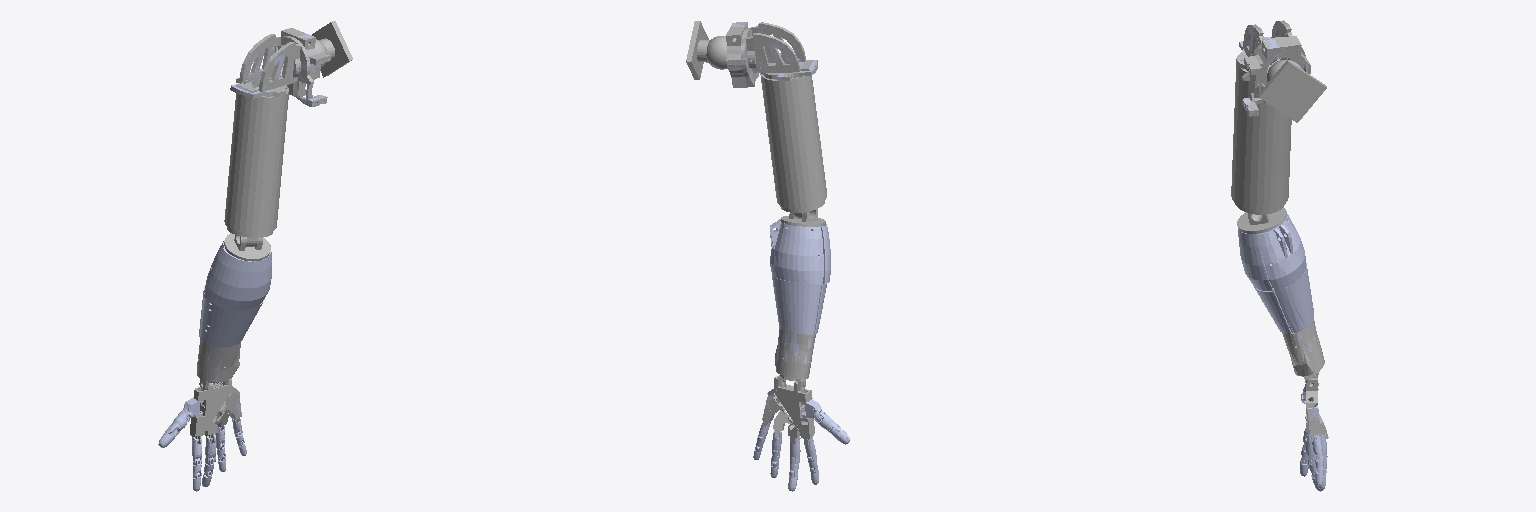
--- What the picture shows (computed from the rendered views, not written in the file) ---
The picture shows the robot from 3 angles, left to right: view 1: azimuth 30°, elevation 25°; view 2: azimuth 150°, elevation 25°; view 3: azimuth 270°, elevation 25°; orthographic projection.
Model Final with 29 links and 28 joints (10 revolute, 18 fixed), rooted at Hand, posed all joints at 0.
Links seen in each view (by area): view 1: Hand, wrist_forearmB, bicep_sholder; view 2: Hand, wrist_forearmB, bicep_sholder; view 3: Hand, wrist_forearmB.
Boxes of the visible links, bbox=[...] form: Hand: bbox=[190, 21, 352, 442]; wrist_forearmB: bbox=[199, 240, 271, 381]; bicep_sholder: bbox=[231, 34, 328, 105]; Hand: bbox=[686, 21, 826, 444]; wrist_forearmB: bbox=[770, 219, 830, 363]; bicep_sholder: bbox=[727, 22, 817, 86]; Hand: bbox=[1231, 20, 1328, 439]; wrist_forearmB: bbox=[1238, 214, 1316, 370].
Size in the robot's own frame: 0.3405 by 0.1526 by 0.8477 metres.
25 mesh visuals loaded from 29 distinct referenced files (25 binary STL); not drawn: 4 (reference not matched to a file when rendering).

URDF robot description (Final):
<robot
  name="Final">
  <link
    name="Hand">
    <inertial>
      <origin
        xyz="0.129288637592958 0.466172810294003 0.134407728849478"
        rpy="0 0 0" />
      <mass
        value="1.43769689729479" />
      <inertia
        ixx="0.0754637348742417"
        ixy="0.0160051371354131"
        ixz="8.10570732276293E-05"
        iyy="0.00844184701366337"
        iyz="0.00475609505577655"
        izz="0.0802895400374223" />
    </inertial>
    <visual>
      <origin
        xyz="0 0 0"
        rpy="0 0 0" />
      <geometry>
        <mesh
          filename="package://Final/meshes/Hand.stl" />
      </geometry>
      <material
        name="">
        <color
          rgba="0.752941176470588 0.752941176470588 0.752941176470588 1" />
      </material>
    </visual>
    <collision>
      <origin
        xyz="0 0 0"
        rpy="0 0 0" />
      <geometry>
        <mesh
          filename="package://Final/meshes/Hand.stl" />
      </geometry>
    </collision>
  </link>
  <link
    name="finger1">
    <inertial>
      <origin
        xyz="0.0110548124588699 -0.000759093738962921 -0.00222741724519672"
        rpy="0 0 0" />
      <mass
        value="0.00485447178040187" />
      <inertia
        ixx="7.36775350797906E-07"
        ixy="-9.89986093717195E-11"
        ixz="-1.43870662962904E-09"
        iyy="7.85496873726242E-07"
        iyz="1.24397307531872E-08"
        izz="2.26727077935767E-07" />
    </inertial>
    <visual>
      <origin
        xyz="0 0 0"
        rpy="0 0 0" />
      <geometry>
        <mesh
          filename="package://Final/meshes/finger1.stl" />
      </geometry>
      <material
        name="">
        <color
          rgba="0.792156862745098 0.819607843137255 0.933333333333333 1" />
      </material>
    </visual>
    <collision>
      <origin
        xyz="0 0 0"
        rpy="0 0 0" />
      <geometry>
        <mesh
          filename="package://Final/meshes/finger1.stl" />
      </geometry>
    </collision>
  </link>
  <joint
    name="jointA_F1"
    type="fixed">
    <origin
      xyz="0.0471308262462804 -0.0859589965746256 -0.0109125459288793"
      rpy="0.182773605382286 -0.0951335730972726 3.14159265358979" />
    <parent
      link="Hand" />
    <child
      link="finger1" />
    <axis
      xyz="0 1 0" />
  </joint>
  <link
    name="Finger1_B">
    <inertial>
      <origin
        xyz="-0.0121027078859167 0.0272470178621252 0.000928955040772866"
        rpy="0 0 0" />
      <mass
        value="0.00291154998187445" />
      <inertia
        ixx="2.44527318703978E-07"
        ixy="1.56721281805273E-11"
        ixz="-8.84992107980566E-10"
        iyy="2.47698994054191E-07"
        iyz="-1.37934990242015E-08"
        izz="9.10717312480527E-08" />
    </inertial>
    <visual>
      <origin
        xyz="0 0 0"
        rpy="0 0 0" />
      <geometry>
        <mesh
          filename="package://Final/meshes/Finger1_B.stl" />
      </geometry>
      <material
        name="">
        <color
          rgba="0.792156862745098 0.819607843137255 0.933333333333333 1" />
      </material>
    </visual>
    <collision>
      <origin
        xyz="0 0 0"
        rpy="0 0 0" />
      <geometry>
        <mesh
          filename="package://Final/meshes/Finger1_B.stl" />
      </geometry>
    </collision>
  </link>
  <joint
    name="Joint_B_F1"
    type="fixed">
    <origin
      xyz="0.0239670317406078 -0.0292121636952554 -0.0326970245054934"
      rpy="-0.0010563321639043 0.0180579245836944 0.0282279152974621" />
    <parent
      link="finger1" />
    <child
      link="Finger1_B" />
    <axis
      xyz="0 1 0" />
  </joint>
  <link
    name="Finger1_C">
    <inertial>
      <origin
        xyz="0.011637652069532 -0.02600688585187 -0.000760205265330147"
        rpy="0 0 0" />
      <mass
        value="0.00275476937351065" />
      <inertia
        ixx="2.44487477502541E-07"
        ixy="-3.19925276440353E-11"
        ixz="2.05349249782881E-10"
        iyy="2.40288841362679E-07"
        iyz="-1.37763471505517E-08"
        izz="7.25166805272361E-08" />
    </inertial>
    <visual>
      <origin
        xyz="0 0 0"
        rpy="0 0 0" />
      <geometry>
        <mesh
          filename="package://Final/meshes/Finger1_C.stl" />
      </geometry>
      <material
        name="">
        <color
          rgba="0.792156862745098 0.819607843137255 0.933333333333333 1" />
      </material>
    </visual>
    <collision>
      <origin
        xyz="0 0 0"
        rpy="0 0 0" />
      <geometry>
        <mesh
          filename="package://Final/meshes/Finger1_C.stl" />
      </geometry>
    </collision>
  </link>
  <joint
    name="Joint_C_F1"
    type="fixed">
    <origin
      xyz="0.000233310307831504 -0.0296465692908842 -0.0537288459119701"
      rpy="2.98373726535908 0.0194788468047409 0.0280016965185752" />
    <parent
      link="finger1" />
    <child
      link="Finger1_C" />
    <axis
      xyz="0 1 0" />
  </joint>
  <link
    name="finger2">
    <inertial>
      <origin
        xyz="0.0120879346810314 -0.000998425960774513 -0.00237372461685456"
        rpy="0 0 0" />
      <mass
        value="0.00598803106429854" />
      <inertia
        ixx="1.04553447233262E-06"
        ixy="3.07765461269432E-11"
        ixz="-1.33205826776751E-09"
        iyy="1.11482303491105E-06"
        iyz="1.78038235202628E-08"
        izz="3.21613063044309E-07" />
    </inertial>
    <visual>
      <origin
        xyz="0 0 0"
        rpy="0 0 0" />
      <geometry>
        <mesh
          filename="package://Final/meshes/finger2.stl" />
      </geometry>
      <material
        name="">
        <color
          rgba="0.792156862745098 0.819607843137255 0.933333333333333 1" />
      </material>
    </visual>
    <collision>
      <origin
        xyz="0 0 0"
        rpy="0 0 0" />
      <geometry>
        <mesh
          filename="package://Final/meshes/finger2.stl" />
      </geometry>
    </collision>
  </link>
  <joint
    name="joint_A_F2"
    type="fixed">
    <origin
      xyz="0.0766907423914469 -0.0830084883504815 -0.0155673659430137"
      rpy="-0.0275190697978609 1.73341010286085E-16 3.14159265358979" />
    <parent
      link="Hand" />
    <child
      link="finger2" />
    <axis
      xyz="0 1 0" />
  </joint>
  <link
    name="Finger2_B">
    <inertial>
      <origin
        xyz="-0.0127549241779693 0.0290253930041213 0.000996020377715373"
        rpy="0 0 0" />
      <mass
        value="0.00358854059267298" />
      <inertia
        ixx="3.46462518025062E-07"
        ixy="9.91156515029609E-12"
        ixz="-1.02219630282099E-09"
        iyy="3.50949401200573E-07"
        iyz="-1.95905355591637E-08"
        izz="1.29038140552133E-07" />
    </inertial>
    <visual>
      <origin
        xyz="0 0 0"
        rpy="0 0 0" />
      <geometry>
        <mesh
          filename="package://Final/meshes/Finger2_B.stl" />
      </geometry>
      <material
        name="">
        <color
          rgba="0.792156862745098 0.819607843137255 0.933333333333333 1" />
      </material>
    </visual>
    <collision>
      <origin
        xyz="0 0 0"
        rpy="0 0 0" />
      <geometry>
        <mesh
          filename="package://Final/meshes/Finger2_B.stl" />
      </geometry>
    </collision>
  </link>
  <joint
    name="jont_B_F2"
    type="fixed">
    <origin
      xyz="0.025271939605955 -0.0332477363392305 -0.0295253309945312"
      rpy="-0.169130374230234 -0.0200804450603309 0.00152573149988853" />
    <parent
      link="finger2" />
    <child
      link="Finger2_B" />
    <axis
      xyz="0 1 0" />
  </joint>
  <link
    name="Finger2_C">
    <inertial>
      <origin
        xyz="-0.0129314195890729 -0.0287307789085604 0.000815059502369778"
        rpy="0 0 0" />
      <mass
        value="0.00339530212165249" />
      <inertia
        ixx="3.46390918323227E-07"
        ixy="3.3635333055867E-11"
        ixz="-1.49028773537726E-10"
        iyy="3.40451951872142E-07"
        iyz="-1.94163365324365E-08"
        izz="1.02734553290366E-07" />
    </inertial>
    <visual>
      <origin
        xyz="0 0 0"
        rpy="0 0 0" />
      <geometry>
        <mesh
          filename="package://Final/meshes/Finger2_C.stl" />
      </geometry>
      <material
        name="">
        <color
          rgba="0.792156862745098 0.819607843137255 0.933333333333333 1" />
      </material>
    </visual>
    <collision>
      <origin
        xyz="0 0 0"
        rpy="0 0 0" />
      <geometry>
        <mesh
          filename="package://Final/meshes/Finger2_C.stl" />
      </geometry>
    </collision>
  </link>
  <joint
    name="Joint_C_F2"
    type="fixed">
    <origin
      xyz="0.0265720490036344 0.0177873001160022 -0.0690850554695653"
      rpy="-0.272268234163198 -0.0200804450603311 0.00152573149988828" />
    <parent
      link="finger2" />
    <child
      link="Finger2_C" />
    <axis
      xyz="0 1 0" />
  </joint>
  <link
    name="Finger3">
    <inertial>
      <origin
        xyz="0.0106590238130482 -0.000776713928599931 -0.00211066757452726"
        rpy="0 0 0" />
      <mass
        value="0.00422254807474187" />
      <inertia
        ixx="5.8404093634714E-07"
        ixy="4.73395291566353E-11"
        ixz="-1.08833936985011E-09"
        iyy="6.22772271150117E-07"
        iyz="9.84774694338631E-09"
        izz="1.79663630518055E-07" />
    </inertial>
    <visual>
      <origin
        xyz="0 0 0"
        rpy="0 0 0" />
      <geometry>
        <mesh
          filename="package://Final/meshes/Finger3.stl" />
      </geometry>
      <material
        name="">
        <color
          rgba="0.792156862745098 0.819607843137255 0.933333333333333 1" />
      </material>
    </visual>
    <collision>
      <origin
        xyz="0 0 0"
        rpy="0 0 0" />
      <geometry>
        <mesh
          filename="package://Final/meshes/Finger3.stl" />
      </geometry>
    </collision>
  </link>
  <joint
    name="joint_A_F3"
    type="fixed">
    <origin
      xyz="0.102686965696126 -0.0631021068929163 -0.0028560644598741"
      rpy="0.0153445853137899 0.0884854603858639 -2.79855777782237" />
    <parent
      link="Hand" />
    <child
      link="Finger3" />
    <axis
      xyz="0 1 0" />
  </joint>
  <link
    name="Finger3_B">
    <inertial>
      <origin
        xyz="-0.011460304726276 0.0259321389724989 0.00088629973709918"
        rpy="0 0 0" />
      <mass
        value="0.00252995297566677" />
      <inertia
        ixx="1.93470801474969E-07"
        ixy="9.75916137247933E-12"
        ixz="-6.60972305236072E-10"
        iyy="1.95993807284992E-07"
        iyz="-1.07841656981897E-08"
        izz="7.20485424911211E-08" />
    </inertial>
    <visual>
      <origin
        xyz="0 0 0"
        rpy="0 0 0" />
      <geometry>
        <mesh
          filename="package://Final/meshes/Finger3_B.stl" />
      </geometry>
      <material
        name="">
        <color
          rgba="0.792156862745098 0.819607843137255 0.933333333333333 1" />
      </material>
    </visual>
    <collision>
      <origin
        xyz="0 0 0"
        rpy="0 0 0" />
      <geometry>
        <mesh
          filename="package://Final/meshes/Finger3_B.stl" />
      </geometry>
    </collision>
  </link>
  <joint
    name="Joint_B_F3"
    type="fixed">
    <origin
      xyz="0.0222712220832444 -0.0278224969973308 -0.0317089759005564"
      rpy="0.0205254506394202 0.00892440540268609 0.00214464548249533" />
    <parent
      link="Finger3" />
    <child
      link="Finger3_B" />
    <axis
      xyz="0 1 0" />
  </joint>
  <link
    name="Finger3_C">
    <inertial>
      <origin
        xyz="-0.01162240637805 -0.0254668496261732 0.000725435824757051"
        rpy="0 0 0" />
      <mass
        value="0.00239376774117869" />
      <inertia
        ixx="1.93444917861517E-07"
        ixy="2.18547838227743E-11"
        ixz="-7.99276506353153E-11"
        iyy="1.90134598243151E-07"
        iyz="-1.07782153765571E-08"
        izz="5.73683979543025E-08" />
    </inertial>
    <visual>
      <origin
        xyz="0 0 0"
        rpy="0 0 0" />
      <geometry>
        <mesh
          filename="package://Final/meshes/Finger3_C.stl" />
      </geometry>
      <material
        name="">
        <color
          rgba="0.792156862745098 0.819607843137255 0.933333333333333 1" />
      </material>
    </visual>
    <collision>
      <origin
        xyz="0 0 0"
        rpy="0 0 0" />
      <geometry>
        <mesh
          filename="package://Final/meshes/Finger3_C.stl" />
      </geometry>
    </collision>
  </link>
  <joint
    name="Joint_C_F3"
    type="fixed">
    <origin
      xyz="0.0224759860791614 0.0245815904842986 -0.0555889211669568"
      rpy="0.00264524657627979 0.00892440540268609 0.00214464548249521" />
    <parent
      link="Finger3" />
    <child
      link="Finger3_C" />
    <axis
      xyz="0 1 0" />
  </joint>
  <link
    name="Finger4">
    <inertial>
      <origin
        xyz="0.00984672193637172 -0.000401101982501803 -0.00203036969896328"
        rpy="0 0 0" />
      <mass
        value="0.00305391462253585" />
      <inertia
        ixx="3.39870470415171E-07"
        ixy="-1.74722525482873E-11"
        ixz="-6.65341749836816E-10"
        iyy="3.62561385224353E-07"
        iyz="5.96715747126159E-09"
        izz="1.05693795749453E-07" />
    </inertial>
    <visual>
      <origin
        xyz="0 0 0"
        rpy="0 0 0" />
      <geometry>
        <mesh
          filename="package://Final/meshes/Finger4.stl" />
      </geometry>
      <material
        name="">
        <color
          rgba="0.792156862745098 0.819607843137255 0.933333333333333 1" />
      </material>
    </visual>
    <collision>
      <origin
        xyz="0 0 0"
        rpy="0 0 0" />
      <geometry>
        <mesh
          filename="package://Final/meshes/Finger4.stl" />
      </geometry>
    </collision>
  </link>
  <joint
    name="joint_A_F4"
    type="fixed">
    <origin
      xyz="0.131370456008666 -0.0721206371266669 0.0129145388795609"
      rpy="-0.124695676479235 0.261976865906165 -3.05143405233697" />
    <parent
      link="Hand" />
    <child
      link="Finger4" />
    <axis
      xyz="0 1 0" />
  </joint>
  <link
    name="Finger4_B">
    <inertial>
      <origin
        xyz="-0.0100519479765843 0.023662480417752 0.000801489124618686"
        rpy="0 0 0" />
      <mass
        value="0.00184870695663556" />
      <inertia
        ixx="1.1466833439058E-07"
        ixy="1.92908875448869E-11"
        ixz="-4.51610784295327E-10"
        iyy="1.16124535447149E-07"
        iyz="-6.41167848589053E-09"
        izz="4.2717675411028E-08" />
    </inertial>
    <visual>
      <origin
        xyz="0 0 0"
        rpy="0 0 0" />
      <geometry>
        <mesh
          filename="package://Final/meshes/Finger4_B.stl" />
      </geometry>
      <material
        name="">
        <color
          rgba="0.792156862745098 0.819607843137255 0.933333333333333 1" />
      </material>
    </visual>
    <collision>
      <origin
        xyz="0 0 0"
        rpy="0 0 0" />
      <geometry>
        <mesh
          filename="package://Final/meshes/Finger4_B.stl" />
      </geometry>
    </collision>
  </link>
  <joint
    name="Joint_B_F4"
    type="fixed">
    <origin
      xyz="0.0199946730815853 -0.0235396160086929 -0.0315281512968542"
      rpy="0.146588922818807 0.00892656969556523 0.00104855931122744" />
    <parent
      link="Finger4" />
    <child
      link="Finger4_B" />
    <axis
      xyz="0 1 0" />
  </joint>
  <link
    name="Finger4_C">
    <inertial>
      <origin
        xyz="-0.0102047067357368 -0.0227837339379683 0.000653280208299037"
        rpy="0 0 0" />
      <mass
        value="0.00174821712074934" />
      <inertia
        ixx="1.14437726543645E-07"
        ixy="1.14972439951003E-11"
        ixz="-5.4310280500599E-11"
        iyy="1.12612891106227E-07"
        iyz="-4.18828676946603E-09"
        izz="3.38423495806074E-08" />
    </inertial>
    <visual>
      <origin
        xyz="0 0 0"
        rpy="0 0 0" />
      <geometry>
        <mesh
          filename="package://Final/meshes/Finger4_C.stl" />
      </geometry>
      <material
        name="">
        <color
          rgba="0.792156862745098 0.819607843137255 0.933333333333333 1" />
      </material>
    </visual>
    <collision>
      <origin
        xyz="0 0 0"
        rpy="0 0 0" />
      <geometry>
        <mesh
          filename="package://Final/meshes/Finger4_C.stl" />
      </geometry>
    </collision>
  </link>
  <joint
    name="Joint_C_F4"
    type="fixed">
    <origin
      xyz="0.020311528218581 0.0261294857464466 -0.046486922340311"
      rpy="0.147130274504413 0.00892656969556589 0.00104855931122724" />
    <parent
      link="Finger4" />
    <child
      link="Finger4_C" />
    <axis
      xyz="0 1 0" />
  </joint>
  <link
    name="Thumb">
    <inertial>
      <origin
        xyz="-0.0127445046007941 0.0197719163878355 0.00919673181676116"
        rpy="0 0 0" />
      <mass
        value="0.0100443026538969" />
      <inertia
        ixx="1.19147452302629E-06"
        ixy="-2.46498764939043E-07"
        ixz="-2.05063913780383E-08"
        iyy="1.22099030033809E-06"
        iyz="1.31314655011602E-08"
        izz="1.75356929419091E-06" />
    </inertial>
    <visual>
      <origin
        xyz="0 0 0"
        rpy="0 0 0" />
      <geometry>
        <mesh
          filename="package://Final/meshes/Thumb.stl" />
      </geometry>
      <material
        name="">
        <color
          rgba="0.792156862745098 0.819607843137255 0.933333333333333 1" />
      </material>
    </visual>
    <collision>
      <origin
        xyz="0 0 0"
        rpy="0 0 0" />
      <geometry>
        <mesh
          filename="package://Final/meshes/Thumb.stl" />
      </geometry>
    </collision>
  </link>
  <joint
    name="Joint_A_Th"
    type="fixed">
    <origin
      xyz="0.00705613579890573 -0.0723234975185209 0.0543442404980752"
      rpy="-1.58582638471745 1.48772478754665 -3.14159265358979" />
    <parent
      link="Hand" />
    <child
      link="Thumb" />
    <axis
      xyz="0 1 0" />
  </joint>
  <link
    name="Thumb_B">
    <inertial>
      <origin
        xyz="0.0155646289290919 -0.00504201785515017 -0.00370788726942901"
        rpy="0 0 0" />
      <mass
        value="0.0075109546250183" />
      <inertia
        ixx="1.1695786952111E-06"
        ixy="2.59692551220241E-10"
        ixz="2.37691425496959E-09"
        iyy="1.30422105306609E-06"
        iyz="-5.41650505434056E-09"
        izz="5.55673170639204E-07" />
    </inertial>
    <visual>
      <origin
        xyz="0 0 0"
        rpy="0 0 0" />
      <geometry>
        <mesh
          filename="package://Final/meshes/Thumb_B.stl" />
      </geometry>
      <material
        name="">
        <color
          rgba="0.792156862745098 0.819607843137255 0.933333333333333 1" />
      </material>
    </visual>
    <collision>
      <origin
        xyz="0 0 0"
        rpy="0 0 0" />
      <geometry>
        <mesh
          filename="package://Final/meshes/Thumb_B.stl" />
      </geometry>
    </collision>
  </link>
  <joint
    name="Joint_B_Th"
    type="fixed">
    <origin
      xyz="-0.00507225418885578 -0.0143711309782835 0.0106139848441266"
      rpy="-1.69450398900784 0.249055710283983 0.71429752210915" />
    <parent
      link="Thumb" />
    <child
      link="Thumb_B" />
    <axis
      xyz="0 1 0" />
  </joint>
  <link
    name="Thumb_C">
    <inertial>
      <origin
        xyz="-0.0145823780187491 -0.0295863052338037 0.000681088933033881"
        rpy="0 0 0" />
      <mass
        value="0.0058125528513806" />
      <inertia
        ixx="7.35501681282326E-07"
        ixy="-4.20026015756495E-10"
        ixz="-7.30110293250238E-10"
        iyy="7.14986258881916E-07"
        iyz="-5.55831068240412E-08"
        izz="2.6055785625784E-07" />
    </inertial>
    <visual>
      <origin
        xyz="0 0 0"
        rpy="0 0 0" />
      <geometry>
        <mesh
          filename="package://Final/meshes/Thumb_C.stl" />
      </geometry>
      <material
        name="">
        <color
          rgba="0.792156862745098 0.819607843137255 0.933333333333333 1" />
      </material>
    </visual>
    <collision>
      <origin
        xyz="0 0 0"
        rpy="0 0 0" />
      <geometry>
        <mesh
          filename="package://Final/meshes/Thumb_C.stl" />
      </geometry>
    </collision>
  </link>
  <joint
    name="Joint_C_Th"
    type="fixed">
    <origin
      xyz="0.0244109612667414 -0.0327207709642576 0.0478323667375119"
      rpy="1.65118002893298 -0.249055710283978 -2.42729513148063" />
    <parent
      link="Thumb" />
    <child
      link="Thumb_C" />
    <axis
      xyz="0 1 0" />
  </joint>
  <link
    name="fistA">
    <inertial>
      <origin
        xyz="-0.00965822788241474 0.00509445938173081 0.00939769707709211"
        rpy="0 0 0" />
      <mass
        value="0.0620670675326556" />
      <inertia
        ixx="5.69671057952341E-05"
        ixy="1.84021940503624E-05"
        ixz="1.61528453087195E-08"
        iyy="2.57358503382865E-05"
        iyz="1.75222460138142E-07"
        izz="7.88007477464702E-05" />
    </inertial>
    <visual>
      <origin
        xyz="0 0 0"
        rpy="0 0 0" />
      <geometry>
        <mesh
          filename="package://Final/meshes/fistA.stl" />
      </geometry>
      <material
        name="">
        <color
          rgba="0.792156862745098 0.819607843137255 0.933333333333333 1" />
      </material>
    </visual>
    <collision>
      <origin
        xyz="0 0 0"
        rpy="0 0 0" />
      <geometry>
        <mesh
          filename="package://Final/meshes/fistA.stl" />
      </geometry>
    </collision>
  </link>
  <joint
    name="jointfistA"
    type="fixed">
    <origin
      xyz="0.0734706648767984 -0.0719235132736502 0.0556029725590273"
      rpy="1.5707963267949 0 0" />
    <parent
      link="Hand" />
    <child
      link="fistA" />
    <axis
      xyz="0 1 0" />
  </joint>
  <link
    name="fistB">
    <inertial>
      <origin
        xyz="0.00448793034383756 0.0119748821093419 0.00896488340069784"
        rpy="0 0 0" />
      <mass
        value="0.0108103507411784" />
      <inertia
        ixx="1.88924492632077E-06"
        ixy="-3.62931520166084E-07"
        ixz="8.74165912236973E-09"
        iyy="1.17144590474871E-06"
        iyz="-3.04533350714664E-08"
        izz="2.39236519970168E-06" />
    </inertial>
    <visual>
      <origin
        xyz="0 0 0"
        rpy="0 0 0" />
      <geometry>
        <mesh
          filename="package://Final/meshes/fistB.stl" />
      </geometry>
      <material
        name="">
        <color
          rgba="0.792156862745098 0.819607843137255 0.933333333333333 1" />
      </material>
    </visual>
    <collision>
      <origin
        xyz="0 0 0"
        rpy="0 0 0" />
      <geometry>
        <mesh
          filename="package://Final/meshes/fistB.stl" />
      </geometry>
    </collision>
  </link>
  <joint
    name="FistB"
    type="fixed">
    <origin
      xyz="0.0162349982169924 -0.00793580080581587 -0.00385511437918799"
      rpy="-0.312019697286641 -0.371361312187983 -3.14071843002083" />
    <parent
      link="fistA" />
    <child
      link="fistB" />
    <axis
      xyz="0 1 0" />
  </joint>
  <link
    name="fistC">
    <inertial>
      <origin
        xyz="-0.0189495761853029 -0.0165716059034484 0.0144795418540926"
        rpy="0 0 0" />
      <mass
        value="0.0148930956882388" />
      <inertia
        ixx="3.7214302351873E-06"
        ixy="-7.21603667401366E-07"
        ixz="9.85359951523659E-09"
        iyy="1.54502379328388E-06"
        iyz="-4.60343302173896E-08"
        izz="4.36111201924182E-06" />
    </inertial>
    <visual>
      <origin
        xyz="0 0 0"
        rpy="0 0 0" />
      <geometry>
        <mesh
          filename="package://Final/meshes/fistC.stl" />
      </geometry>
      <material
        name="">
        <color
          rgba="0.792156862745098 0.819607843137255 0.933333333333333 1" />
      </material>
    </visual>
    <collision>
      <origin
        xyz="0 0 0"
        rpy="0 0 0" />
      <geometry>
        <mesh
          filename="package://Final/meshes/fistC.stl" />
      </geometry>
    </collision>
  </link>
  <joint
    name="fistC"
    type="fixed">
    <origin
      xyz="0.0151293313645217 -0.0174539260612712 -0.00671567244236566"
      rpy="-0.0950797152664536 -0.114538158161291 -3.13205142474961" />
    <parent
      link="fistA" />
    <child
      link="fistC" />
    <axis
      xyz="0 1 0" />
  </joint>
  <link
    name="fist_wristJointA">
    <inertial>
      <origin
        xyz="-0.00965822788241474 0.00509445938173081 0.00939769707709211"
        rpy="0 0 0" />
      <mass
        value="0.0620670675326556" />
      <inertia
        ixx="5.69671057952341E-05"
        ixy="1.84021940503624E-05"
        ixz="1.61528453087195E-08"
        iyy="2.57358503382865E-05"
        iyz="1.75222460138142E-07"
        izz="7.88007477464702E-05" />
    </inertial>
    <visual>
      <origin
        xyz="0 0 0"
        rpy="0 0 0" />
      <geometry>
        <mesh
          filename="package://Final/meshes/fist_wristJointA.stl" />
      </geometry>
      <material
        name="">
        <color
          rgba="0.792156862745098 0.819607843137255 0.933333333333333 1" />
      </material>
    </visual>
    <collision>
      <origin
        xyz="0 0 0"
        rpy="0 0 0" />
      <geometry>
        <mesh
          filename="package://Final/meshes/fist_wristJointA.stl" />
      </geometry>
    </collision>
  </link>
  <joint
    name="wristJointA"
    type="revolute">
    <origin
      xyz="0.0734706648767984 -0.0719235132736502 0.0556029725590273"
      rpy="1.5707963267949 0 0" />
    <parent
      link="Hand" />
    <child
      link="fist_wristJointA" />
    <axis
      xyz="0 1 0" />
    <limit effort="10" lower="-1.57" upper="1.57" velocity="0"/>
  </joint>
  <link
    name="fist_wristJointB">
    <inertial>
      <origin
        xyz="-0.000319663861209685 0.000868517742544497 0.00747119439384647"
        rpy="0 0 0" />
      <mass
        value="0.0111424616821112" />
      <inertia
        ixx="1.45269130228323E-06"
        ixy="-8.22651613000617E-10"
        ixz="3.89832988925888E-09"
        iyy="3.25396398769328E-06"
        iyz="1.33907975595103E-08"
        izz="3.68865409917759E-06" />
    </inertial>
    <visual>
      <origin
        xyz="0 0 0"
        rpy="0 0 0" />
      <geometry>
        <mesh
          filename="package://Final/meshes/fist_wristJointB.stl" />
      </geometry>
      <material
        name="">
        <color
          rgba="0.792156862745098 0.819607843137255 0.933333333333333 1" />
      </material>
    </visual>
    <collision>
      <origin
        xyz="0 0 0"
        rpy="0 0 0" />
      <geometry>
        <mesh
          filename="package://Final/meshes/fist_wristJointB.stl" />
      </geometry>
    </collision>
  </link>
  <joint
    name="wristJointB"
    type="revolute">
    <origin
      xyz="-0.00180733117592267 0.0682845791936677 0.012523318815398"
      rpy="1.82675202937205 0.000458505616105205 -0.00182765697314432" />
    <parent
      link="fist_wristJointA" />
    <child
      link="fist_wristJointB" />
    <axis
      xyz="0 1 0" />
<limit effort="10" lower="-1.57" upper="1.57" velocity="0"/>
  </joint>
  <link
    name="wrist_forearmA">
    <inertial>
      <origin
        xyz="-0.000319663861209685 0.000868517742544497 0.00747119439384647"
        rpy="0 0 0" />
      <mass
        value="0.0111424616821112" />
      <inertia
        ixx="1.45269130228324E-06"
        ixy="-8.22651613000565E-10"
        ixz="3.89832988925882E-09"
        iyy="3.25396398769328E-06"
        iyz="1.33907975595104E-08"
        izz="3.68865409917759E-06" />
    </inertial>
    <visual>
      <origin
        xyz="0 0 0"
        rpy="0 0 0" />
      <geometry>
        <mesh
          filename="package://Final/meshes/wrist_forearmA.stl" />
      </geometry>
      <material
        name="">
        <color
          rgba="0.792156862745098 0.819607843137255 0.933333333333333 1" />
      </material>
    </visual>
    <collision>
      <origin
        xyz="0 0 0"
        rpy="0 0 0" />
      <geometry>
        <mesh
          filename="package://Final/meshes/wrist_forearmA.stl" />
      </geometry>
    </collision>
  </link>
  <joint
    name="wrist_foreatmA"
    type="revolute">
    <origin
      xyz="0.0716633337008758 -0.0844468320890482 0.123887551752695"
      rpy="-2.88563611302075 0.00182765678103233 0.000458506381886199" />
    <parent
      link="Hand" />
    <child
      link="wrist_forearmA" />
    <axis
      xyz="0 1 0" />
<limit effort="10" lower="-1.57" upper="1.57" velocity="0"/>
  </joint>
  <link
    name="wrist_forearmB">
    <inertial>
      <origin
        xyz="0.0110293718040583 -0.00253541803519625 0.157153749101527"
        rpy="0 0 0" />
      <mass
        value="0.292392860836383" />
      <inertia
        ixx="0.00189141237855651"
        ixy="1.07452146613658E-05"
        ixz="0.000156316506255066"
        iyy="0.00194869160614147"
        iyz="-2.03017869460826E-05"
        izz="0.000503856455593676" />
    </inertial>
    <visual>
      <origin
        xyz="0 0 0"
        rpy="0 0 0" />
      <geometry>
        <mesh
          filename="package://Final/meshes/wrist_forearmB.stl" />
      </geometry>
      <material
        name="">
        <color
          rgba="0.792156862745098 0.819607843137255 0.933333333333333 1" />
      </material>
    </visual>
    <collision>
      <origin
        xyz="0 0 0"
        rpy="0 0 0" />
      <geometry>
        <mesh
          filename="package://Final/meshes/wrist_forearmB.stl" />
      </geometry>
    </collision>
  </link>
  <joint
    name="wrist_forearmB"
    type="revolute">
    <origin
      xyz="0 0 0"
      rpy="-3.14083414223173 0.00234106125977031 0.201573561598715" />
    <parent
      link="wrist_forearmA" />
    <child
      link="wrist_forearmB" />
    <axis
      xyz="0 1 0" />
<limit effort="10" lower="-1.57" upper="1.57" velocity="0"/>
  </joint>
  <link
    name="Foreatm_biceb">
    <inertial>
      <origin
        xyz="0.0110293718040583 -0.00253541803519623 0.157153749101527"
        rpy="0 0 0" />
      <mass
        value="0.292392860836383" />
      <inertia
        ixx="0.00189141237855651"
        ixy="1.07452146613658E-05"
        ixz="0.000156316506255066"
        iyy="0.00194869160614147"
        iyz="-2.03017869460827E-05"
        izz="0.000503856455593676" />
    </inertial>
    <visual>
      <origin
        xyz="0 0 0"
        rpy="0 0 0" />
      <geometry>
        <mesh
          filename="package://Final/meshes/Foreatm_biceb.stl" />
      </geometry>
      <material
        name="">
        <color
          rgba="0.792156862745098 0.819607843137255 0.933333333333333 1" />
      </material>
    </visual>
    <collision>
      <origin
        xyz="0 0 0"
        rpy="0 0 0" />
      <geometry>
        <mesh
          filename="package://Final/meshes/Foreatm_biceb.stl" />
      </geometry>
    </collision>
  </link>
  <joint
    name="elbow"
    type="revolute">
    <origin
      xyz="0.0716633337008758 -0.0844468320890482 0.123887551752695"
      rpy="0.251364839173554 0.0502344303017111 -0.195315953849387" />
    <parent
      link="Hand" />
    <child
      link="Foreatm_biceb" />
    <axis
      xyz="0 1 0" />
<limit effort="10" lower="-1.57" upper="1.57" velocity="0"/>
  </joint>
  <link
    name="bicep_ForeARM">
    <inertial>
      <origin
        xyz="1.16573417585641E-15 0.00991275721317902 -2.19269047363468E-15"
        rpy="0 0 0" />
      <mass
        value="0.0446570766182443" />
      <inertia
        ixx="1.94190591241929E-05"
        ixy="5.30719081014023E-21"
        ixz="-3.3881317890172E-21"
        iyy="3.20253891406834E-05"
        iyz="-5.02925812432241E-21"
        izz="1.88297108754324E-05" />
    </inertial>
    <visual>
      <origin
        xyz="0 0 0"
        rpy="0 0 0" />
      <geometry>
        <mesh
          filename="package://Final/meshes/bicep_ForeARM.stl" />
      </geometry>
      <material
        name="">
        <color
          rgba="0.792156862745098 0.819607843137255 0.933333333333333 1" />
      </material>
    </visual>
    <collision>
      <origin
        xyz="0 0 0"
        rpy="0 0 0" />
      <geometry>
        <mesh
          filename="package://Final/meshes/bicep_ForeARM.stl" />
      </geometry>
    </collision>
  </link>
  <joint
    name="ELBOWb"
    type="revolute">
    <origin
      xyz="0.0242020855072267 0.00732185346307506 0.315691266316252"
      rpy="-1.87692593139189 0.0601256122236674 -0.00632766945488618" />
    <parent
      link="Foreatm_biceb" />
    <child
      link="bicep_ForeARM" />
    <axis
      xyz="0 1 0" />
<limit effort="10" lower="-1.57" upper="1.57" velocity="0"/>
  </joint>
  <link
    name="bicebA">
    <inertial>
      <origin
        xyz="1.1518563880486E-15 0.00991275721317902 -2.19269047363468E-15"
        rpy="0 0 0" />
      <mass
        value="0.0446570766182443" />
      <inertia
        ixx="1.94190591241929E-05"
        ixy="5.30719081014023E-21"
        ixz="-3.3881317890172E-21"
        iyy="3.20253891406834E-05"
        iyz="-5.02925812432241E-21"
        izz="1.88297108754324E-05" />
    </inertial>
    <visual>
      <origin
        xyz="0 0 0"
        rpy="0 0 0" />
      <geometry>
        <mesh
          filename="package://Final/meshes/bicebA.stl" />
      </geometry>
      <material
        name="">
        <color
          rgba="0.792156862745098 0.819607843137255 0.933333333333333 1" />
      </material>
    </visual>
    <collision>
      <origin
        xyz="0 0 0"
        rpy="0 0 0" />
      <geometry>
        <mesh
          filename="package://Final/meshes/bicebA.stl" />
      </geometry>
    </collision>
  </link>
  <joint
    name="bicepA"
    type="revolute">
    <origin
      xyz="0.0966641418921833 -0.162206302402478 0.429875705895546"
      rpy="-1.62465947123836 0.110040123114552 -0.186434014202881" />
    <parent
      link="Hand" />
    <child
      link="bicebA" />
    <axis
      xyz="0 1 0" />
<limit effort="10" lower="-1.57" upper="1.57" velocity="0"/>
  </joint>
  <link
    name="bicepB">
    <inertial>
      <origin
        xyz="5.37070388162419E-15 -0.109052812360598 2.77555756156289E-17"
        rpy="0 0 0" />
      <mass
        value="0.387342666224353" />
      <inertia
        ixx="0.00251699930593122"
        ixy="-9.50794483292952E-19"
        ixz="-1.0842021724855E-19"
        iyy="0.000679250619866577"
        iyz="1.50771864611265E-19"
        izz="0.00251699930593122" />
    </inertial>
    <visual>
      <origin
        xyz="0 0 0"
        rpy="0 0 0" />
      <geometry>
        <mesh
          filename="package://Final/meshes/bicepB.stl" />
      </geometry>
      <material
        name="">
        <color
          rgba="0.792156862745098 0.819607843137255 0.933333333333333 1" />
      </material>
    </visual>
    <collision>
      <origin
        xyz="0 0 0"
        rpy="0 0 0" />
      <geometry>
        <mesh
          filename="package://Final/meshes/bicepB.stl" />
      </geometry>
    </collision>
  </link>
  <joint
    name="bicepB"
    type="revolute">
    <origin
      xyz="0 0 0"
      rpy="-6.95194429130092E-18 0.0612832121331408 -2.60697910923784E-17" />
    <parent
      link="bicebA" />
    <child
      link="bicepB" />
    <axis
      xyz="0 1 0" />
<limit effort="10" lower="-1.57" upper="1.57" velocity="0"/>
  </joint>
  <link
    name="bicep_sholder">
    <inertial>
      <origin
        xyz="0.0180494449745871 -0.179549706046523 0.00952653743441931"
        rpy="0 0 0" />
      <mass
        value="0.669964435494979" />
      <inertia
        ixx="0.00760582269011676"
        ixy="-0.00119268148510156"
        ixz="0.000221884363374559"
        iyy="0.00160699813015934"
        iyz="-0.000646357772133964"
        izz="0.00795606185127518" />
    </inertial>
    <visual>
      <origin
        xyz="0 0 0"
        rpy="0 0 0" />
      <geometry>
        <mesh
          filename="package://Final/meshes/bicep_sholder.stl" />
      </geometry>
      <material
        name="">
        <color
          rgba="0.792156862745098 0.819607843137255 0.933333333333333 1" />
      </material>
    </visual>
    <collision>
      <origin
        xyz="0 0 0"
        rpy="0 0 0" />
      <geometry>
        <mesh
          filename="package://Final/meshes/bicep_sholder.stl" />
      </geometry>
    </collision>
  </link>
  <joint
    name="bicep_sholder"
    type="revolute">
    <origin
      xyz="0.0966641418921833 -0.162206302402478 0.429875705895546"
      rpy="-1.63131298016551 0.106536140093259 -0.247977603578091" />
    <parent
      link="Hand" />
    <child
      link="bicep_sholder" />
    <axis
      xyz="0 1 0" />
<limit effort="10" lower="-1.57" upper="1.57" velocity="0"/>
  </joint>
  <link
    name="sholder">
    <inertial>
      <origin
        xyz="-4.01580174669292E-08 2.25588271951516E-08 0.0171208360581426"
        rpy="0 0 0" />
      <mass
        value="0.189920998046835" />
      <inertia
        ixx="0.000154354438629244"
        ixy="-4.74124855858165E-13"
        ixz="2.5271116994605E-11"
        iyy="0.000159817451695558"
        iyz="-3.71597991804661E-12"
        izz="0.000104097292974617" />
    </inertial>
    <visual>
      <origin
        xyz="0 0 0"
        rpy="0 0 0" />
      <geometry>
        <mesh
          filename="package://Final/meshes/sholder.stl" />
      </geometry>
      <material
        name="">
        <color
          rgba="0.792156862745098 0.819607843137255 0.933333333333333 1" />
      </material>
    </visual>
    <collision>
      <origin
        xyz="0 0 0"
        rpy="0 0 0" />
      <geometry>
        <mesh
          filename="package://Final/meshes/sholder.stl" />
      </geometry>
    </collision>
  </link>
  <joint
    name="sholder"
    type="revolute">
    <origin
      xyz="0.0972564562433843 -0.283437007707982 0.0565257750708621"
      rpy="0.857458136684415 -0.789601895766283 2.02211397077006" />
    <parent
      link="bicep_sholder" />
    <child
      link="sholder" />
    <axis
      xyz="0 1 0" />
<limit effort="10" lower="-1.57" upper="1.57" velocity="0"/>
  </joint>
</robot>
